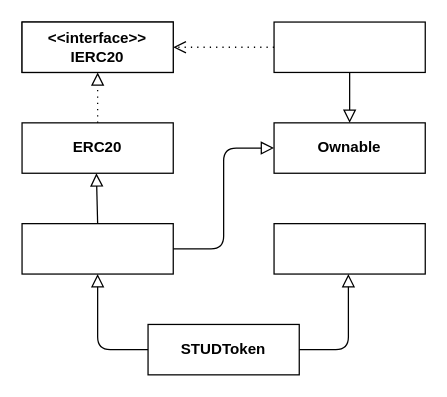
Some shapes in this 447 by 397 pixel diagram are drawn without their labels. Each missing label, with the centre of its shape:
BurnableToken: (97,248)
ERC20Details: (349,248)
STUDTeamVesting: (349,46)
